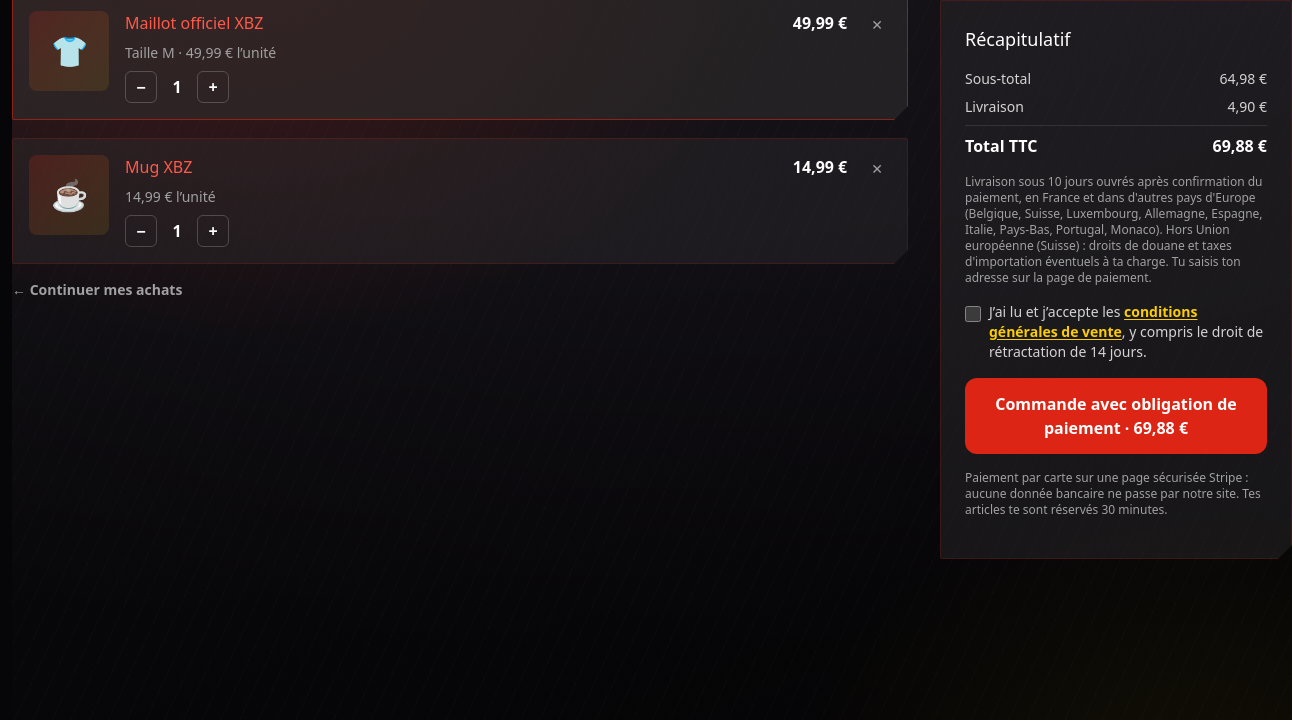
Test case: CartView › stock épuisé au moment de payer : la ligne est signalée, le catalogue relu
Click the checkbox. click: (973, 314)
box: [965,306,981,322]
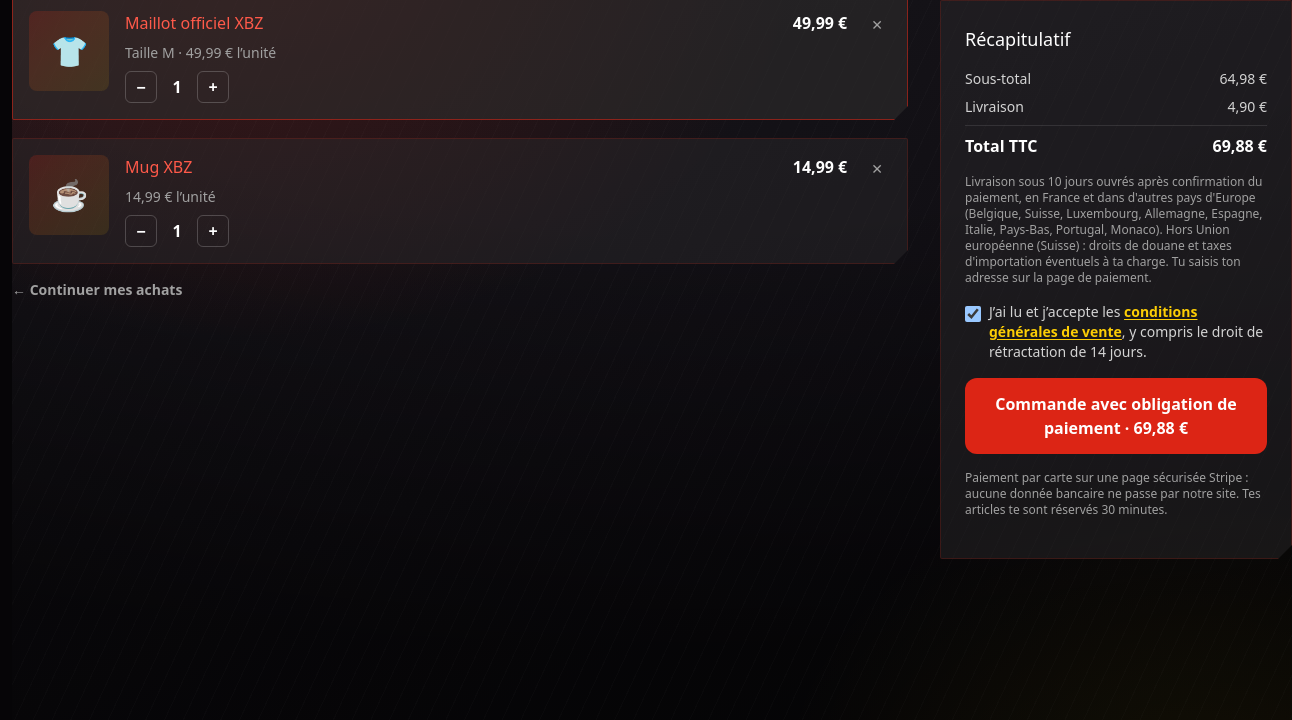
Click the button "Commande avec obligation de paiement · 69,88 €". click: (1116, 416)
box: [965,378,1267,454]
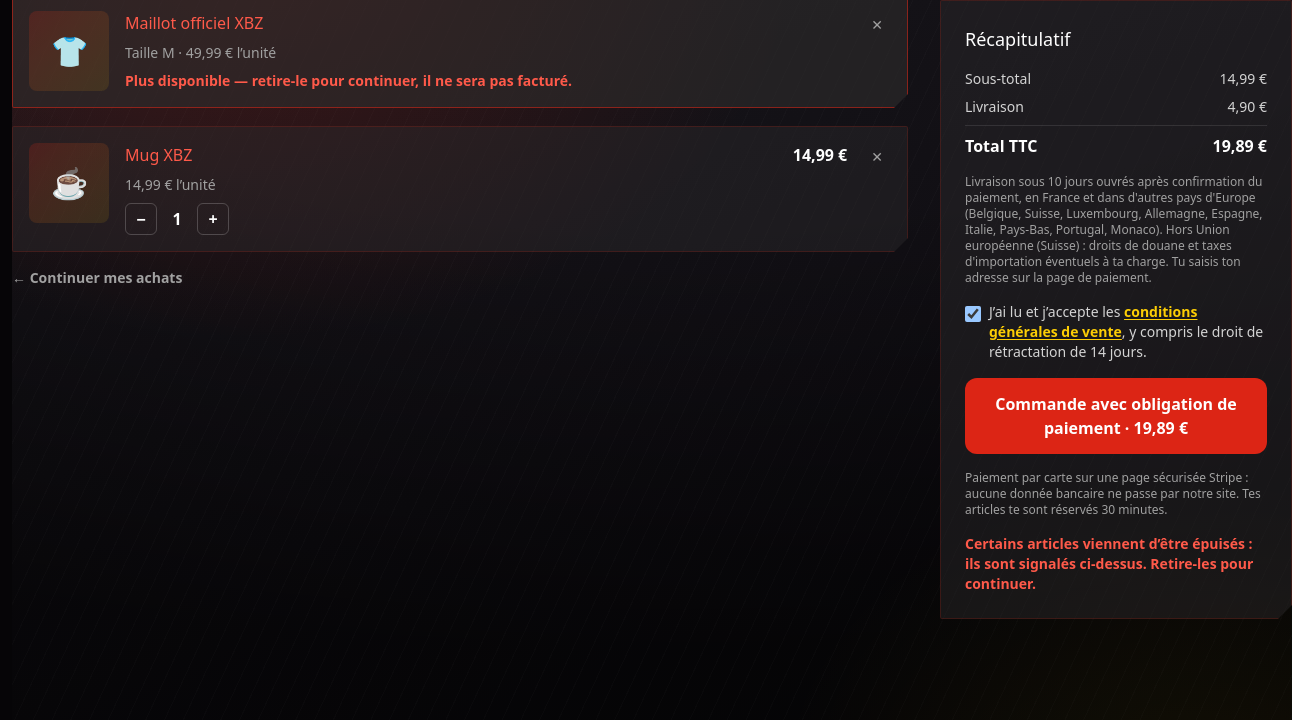
Check: the text "Certains articles viennent d’être épuisés : ils sont signalés ci-dessus. Retire-les pour continuer." is shown, box [965,534,1253,593]
Check: the text "Plus disponible — retire-le pour continuer, il ne sera pas facturé." is shown once, box [125,71,572,90]
